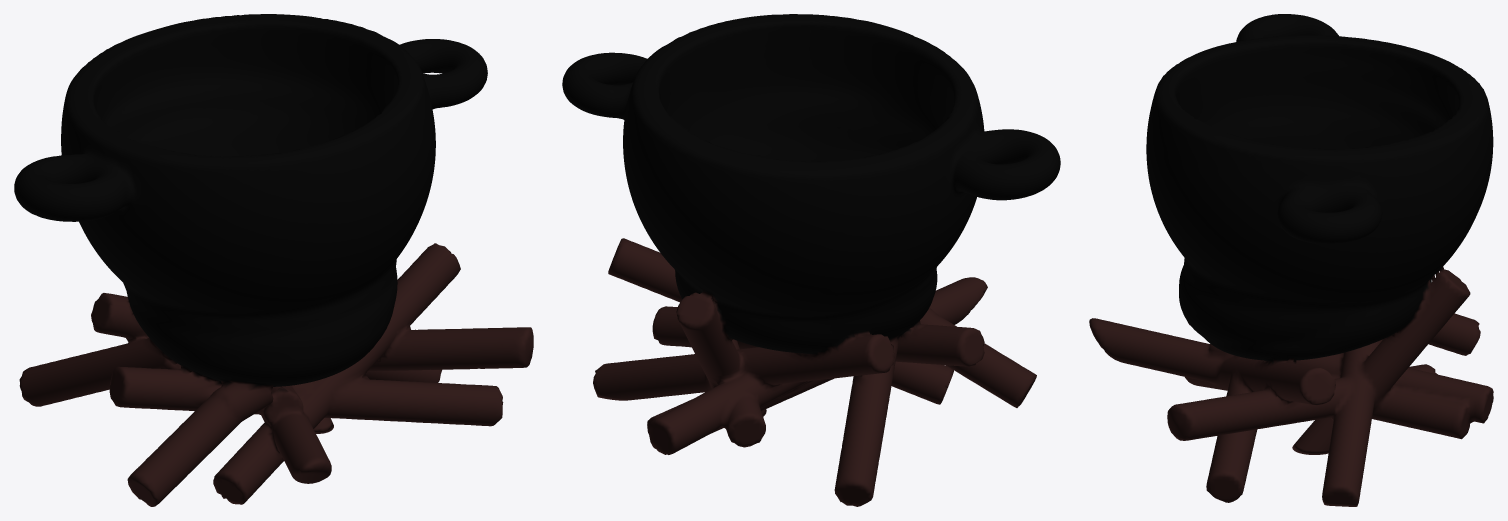
3 renders of one model, left to right at view 1: azimuth 30°, elevation 25°; view 2: azimuth 150°, elevation 25°; view 3: azimuth 270°, elevation 25°, orthographic. The views are drawn at different scales.
Visible parts, largest first — view 1: ReferenceModel_Selection_1; view 2: ReferenceModel_Selection_1; view 3: ReferenceModel_Selection_1.
Part boxes in pixels (x1,y1,x2,y2): ReferenceModel_Selection_1: [14, 14, 533, 506]; ReferenceModel_Selection_1: [562, 14, 1060, 506]; ReferenceModel_Selection_1: [1089, 14, 1493, 506].
Size of the model in its own units: 45.55 by 32.67 by 35.94.
